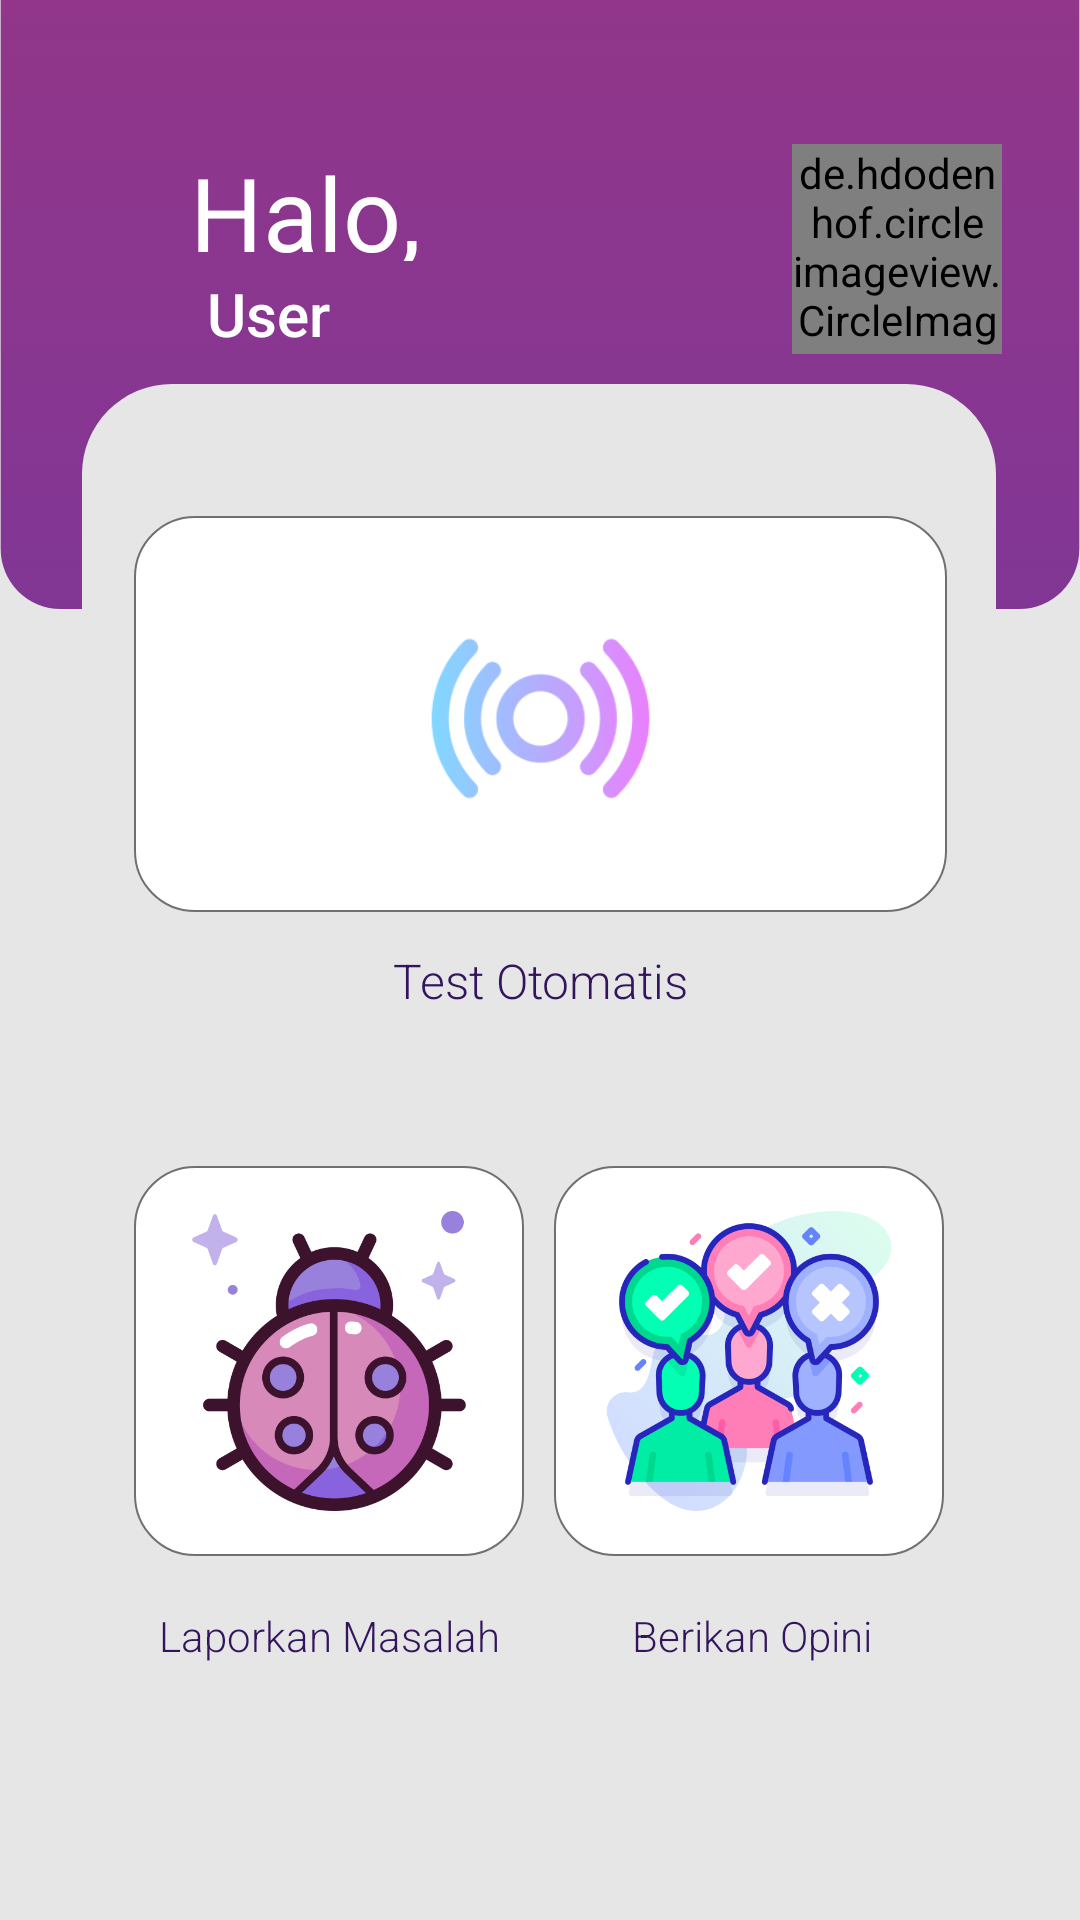

Screen size 1080w x 1920h. Icon name, then its box in pixels as [x1, y1, x2, y2]:
ladybug: [192, 1211, 466, 1511]
opinion: [607, 1211, 891, 1511]
signal: [431, 638, 650, 799]
